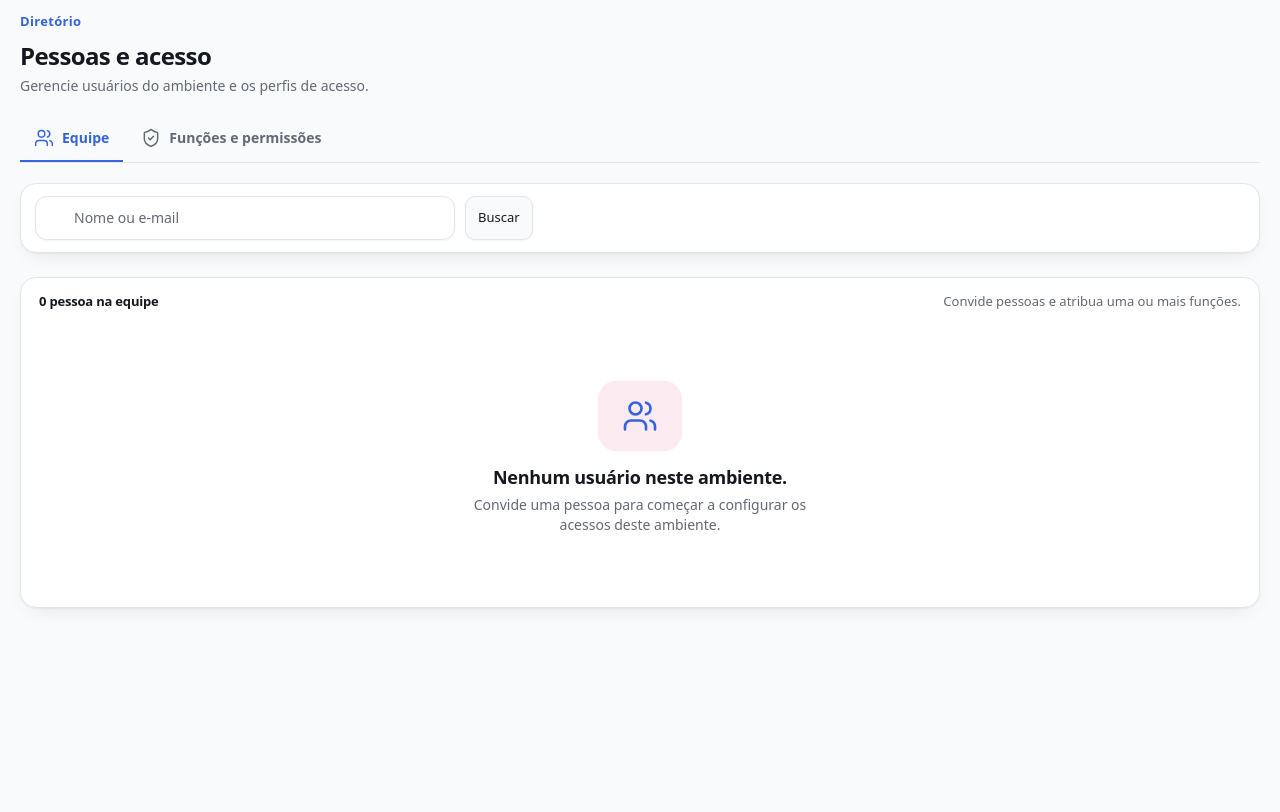
Test: PeopleAccessPage › defaults to the users tab and can switch to roles when core.roles.read is present
The image size is (1280, 812).
Expected: the button "Equipe" is shown, [20,116,123,162]
Expected: the text "Convide pessoas e atribua uma ou mais funções." is shown, [943,292,1241,311]
What coordinates should you click on to do the following:
click the button "Funções e permissões"
I would click on:
 (231, 138)
Its box is [127,116,335,162].
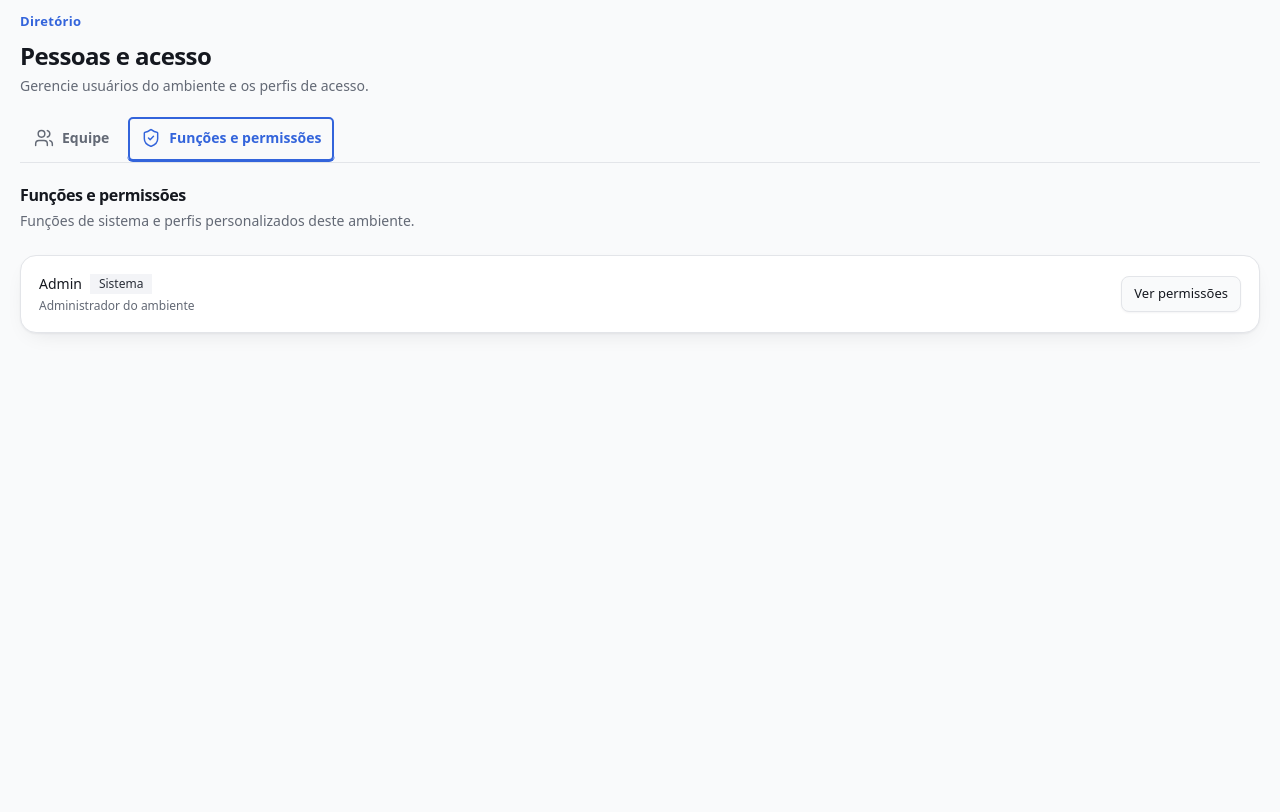
Result: the text "Funções de sistema e perfis personalizados deste ambiente." is shown at [20,210,415,230]
